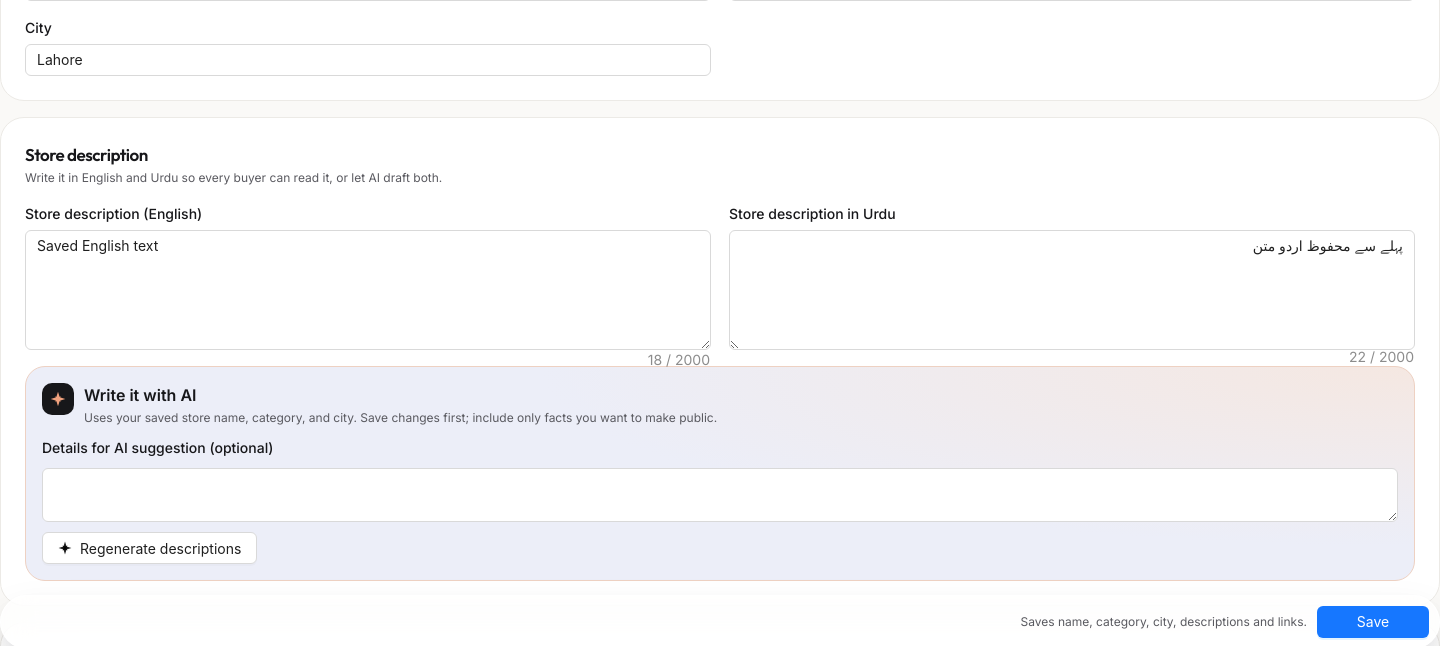
Test: editable bilingual store descriptions › previews AI output without saving or overwriting the current form until Apply is clicked
Click the button "Regenerate descriptions": (150, 548) x1=42 y1=532 x2=257 y2=564
(page scrolled)
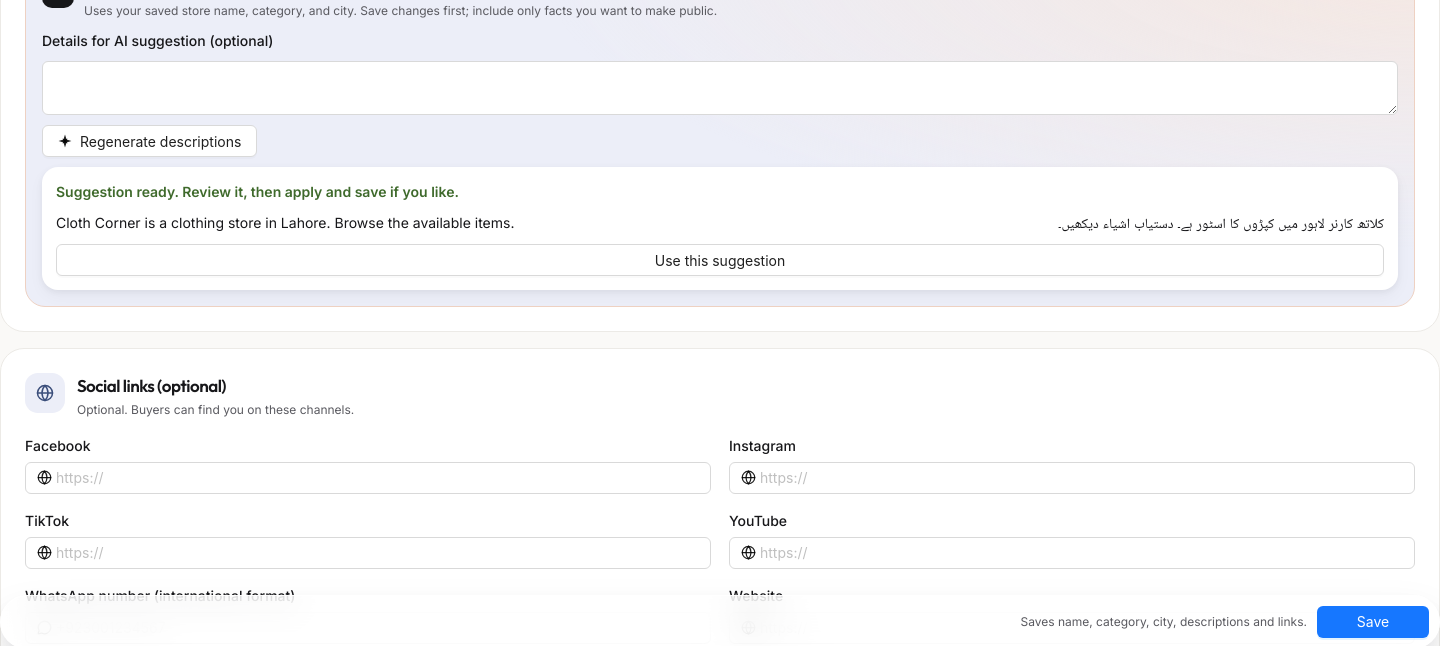
Expected: the text "Cloth Corner is a clothing store in Lahore. Browse the available items." is shown, x1=56 y1=214 x2=514 y2=231
Click the button "Use this suggestion": (720, 260) x1=56 y1=244 x2=1384 y2=276
(page scrolled)
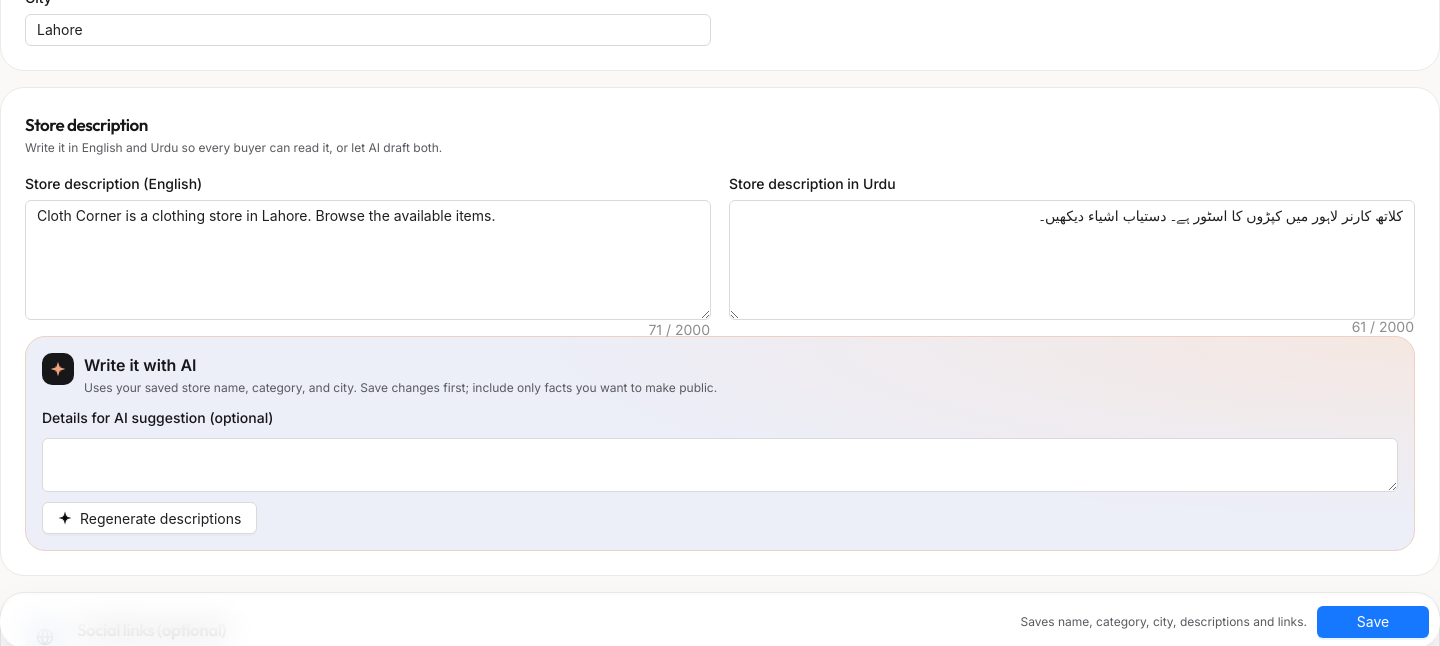
Expected: the text box labelled "Store description (English)" holds "Cloth Corner is a clothing store in Lahore. Browse the available items.", x1=26 y1=201 x2=710 y2=319
Expected: the text box labelled "Store description in Urdu" holds "کلاتھ کارنر لاہور میں کپڑوں کا اسٹور ہے۔ دستیاب اشیاء دیکھیں۔", x1=730 y1=201 x2=1414 y2=319
